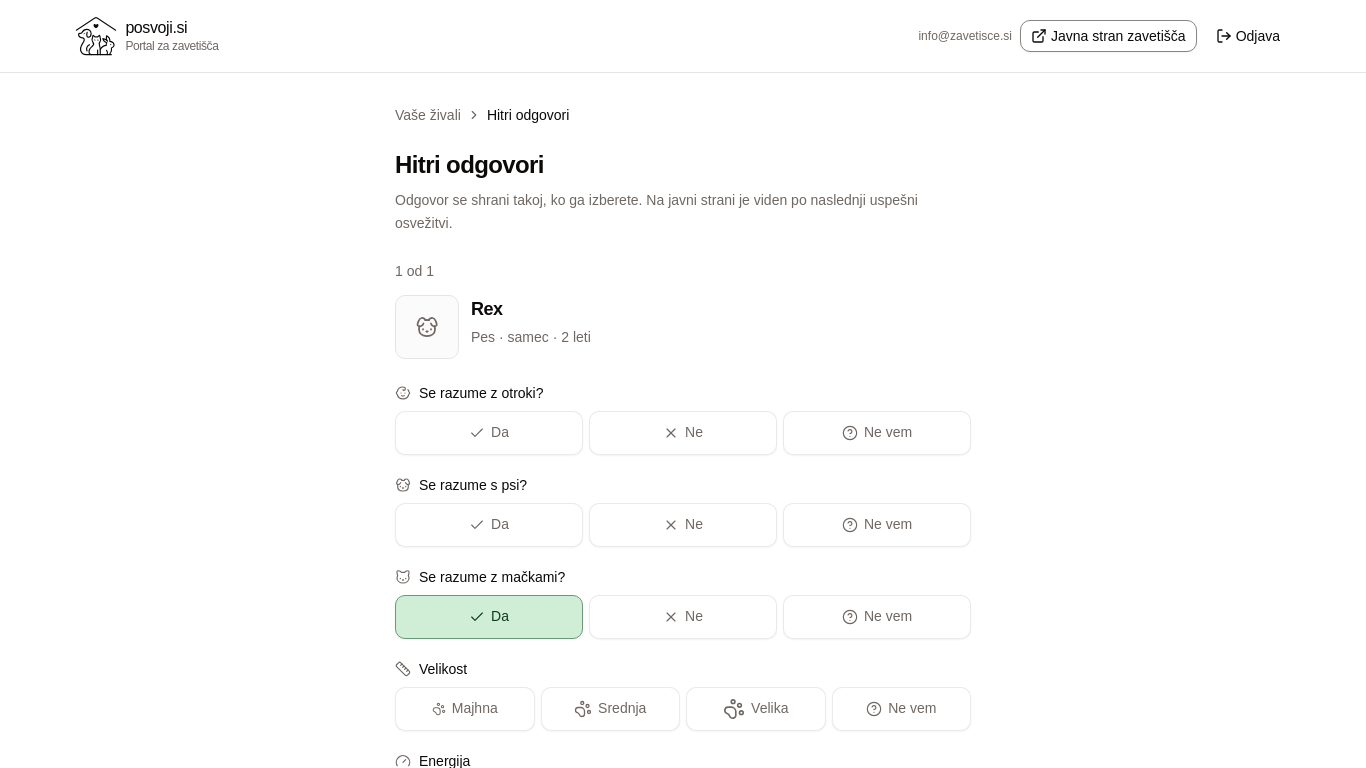
Test case: a tap › keeps a household answer the crawl read and says why
The image size is (1366, 768).
Expected: the heading "Rex" is shown, [471,298,503,318]
Click the radio button labelled "Ne vem" below "Se razume z mačkami?". click: [877, 616]
box: [783,594,971,638]
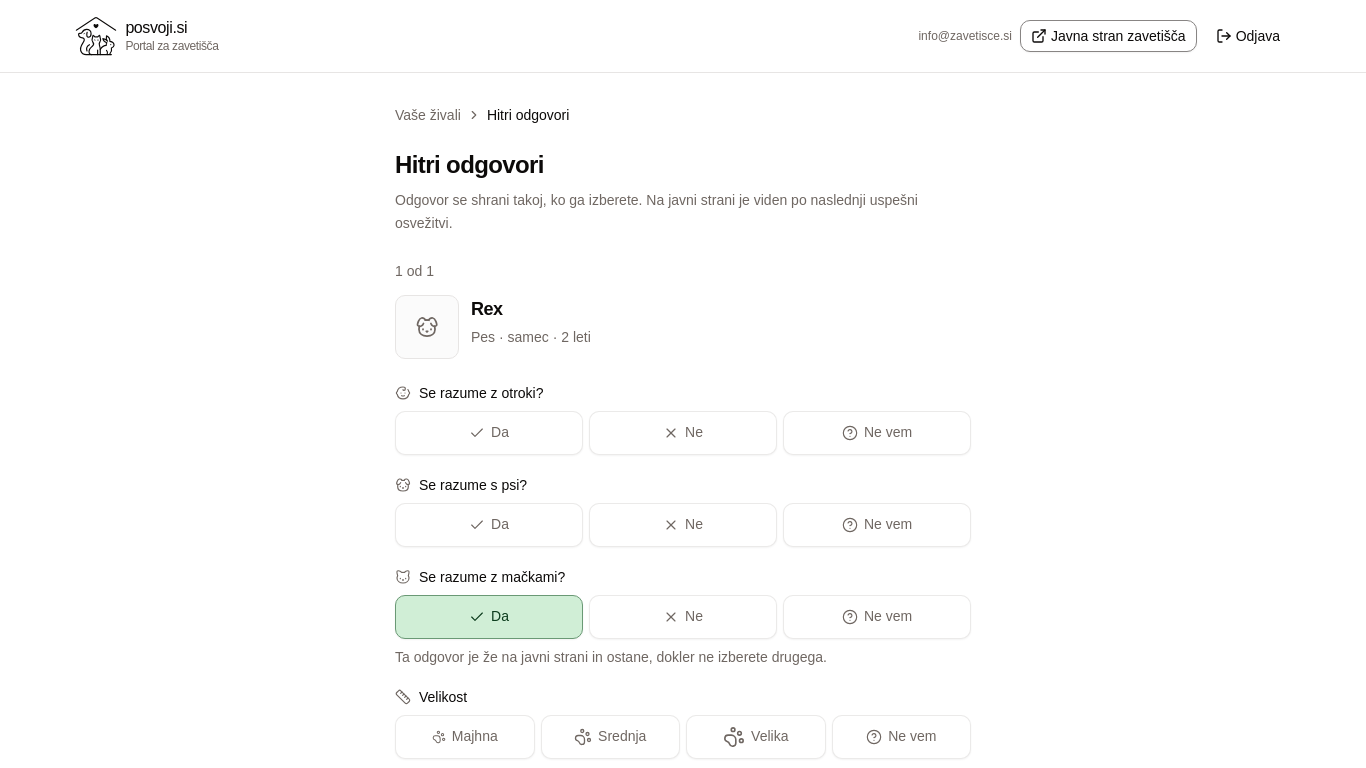
Now the text "Ta odgovor je že na javni strani in ostane, dokler ne izberete drugega." is shown, box [395,648,827,664]
